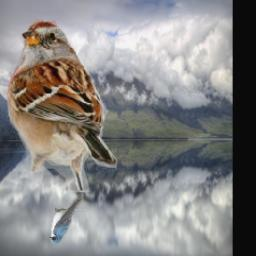Sparrow: (7, 20, 117, 193)
Swallow: (49, 194, 83, 243)
